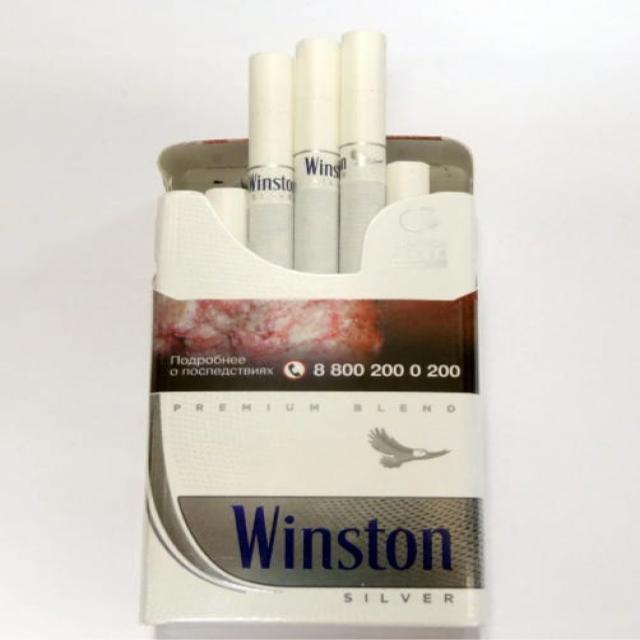winston: (151, 38, 490, 640)
